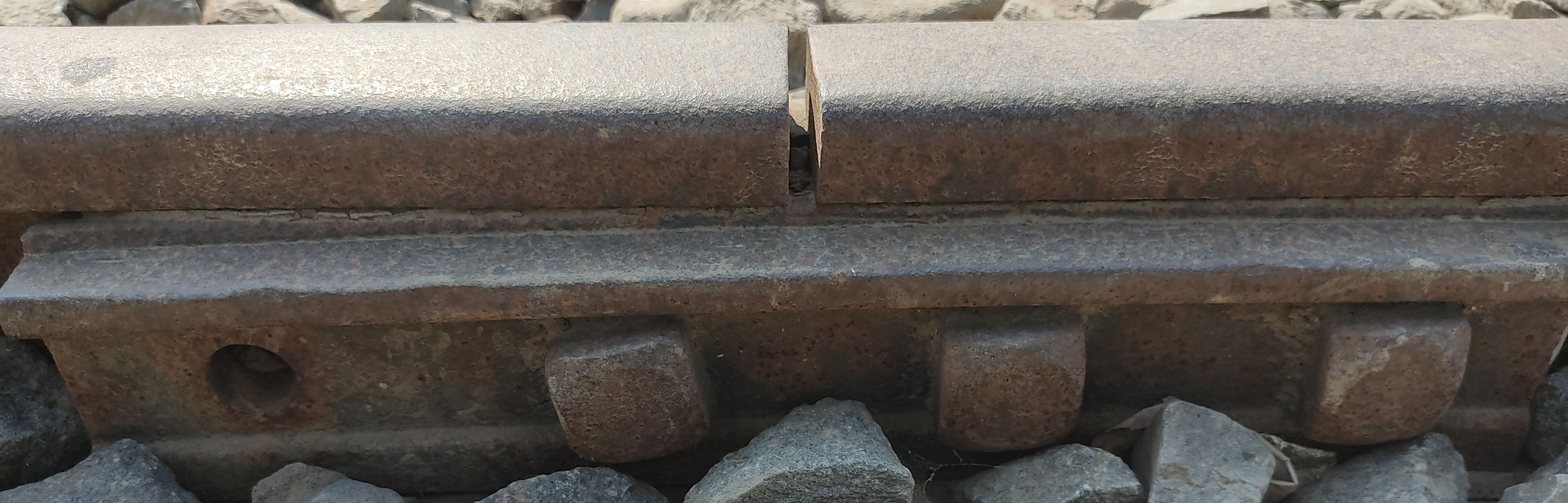duan lie: (759, 13, 855, 209)
